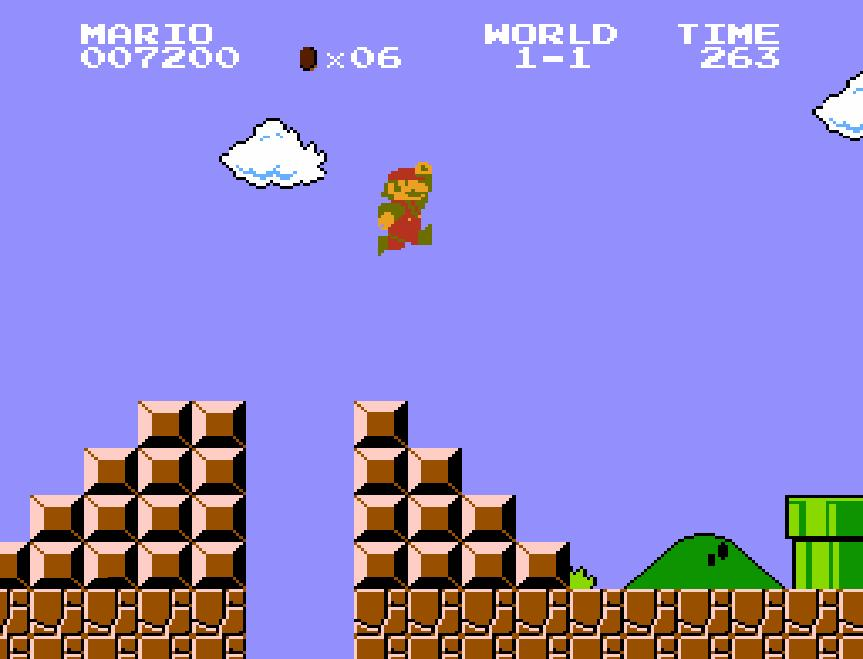big_mario: (376, 160, 434, 258)
